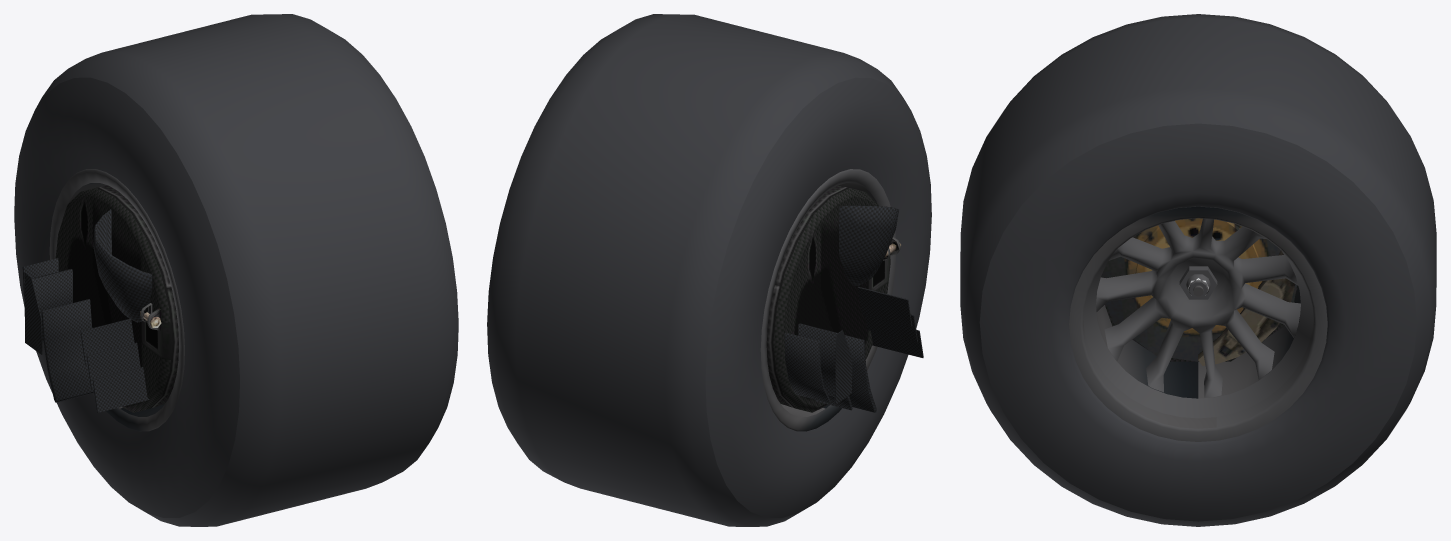
The model's file is front_right.dae.
3 renders of one model, left to right at view 1: azimuth 30°, elevation 25°; view 2: azimuth 150°, elevation 25°; view 3: azimuth 270°, elevation 25°, orthographic. The views are drawn at different scales.
Parts seen in each view (by area): view 1: object__50.001, object__49.001, object__28.001, object__18.001; view 2: object__50.001, object__49.001, object__28.001, object__18.001; view 3: object__49.001, object__50.001, object__18.001, object__38.001, object__28.001.
Boxes of the visible parts, <box> form: object__50.001: <box>35,14,458,526</box>; object__49.001: <box>14,77,239,517</box>; object__28.001: <box>22,185,178,412</box>; object__18.001: <box>49,169,184,431</box>; object__50.001: <box>487,14,909,526</box>; object__49.001: <box>705,77,931,517</box>; object__28.001: <box>766,185,923,412</box>; object__18.001: <box>760,169,895,431</box>; object__49.001: <box>979,123,1416,521</box>; object__50.001: <box>960,14,1436,526</box>; object__18.001: <box>1069,206,1327,441</box>; object__38.001: <box>1101,218,1296,361</box>; object__28.001: <box>1105,250,1298,365</box>.
Bounding box in the file's own units: 4.55 × 6.4 × 6.42.
Materials: 4 (4 with a texture image).
